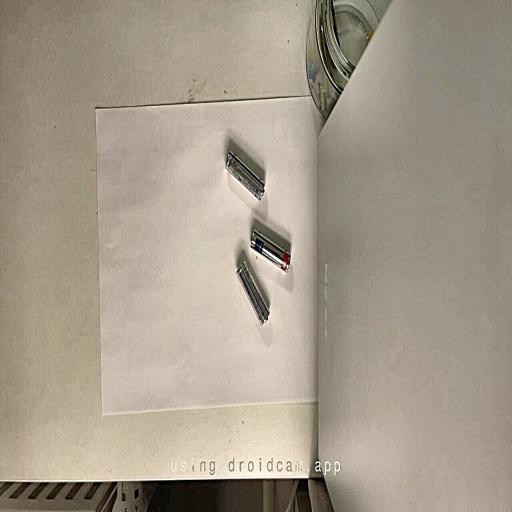RainbowAA: (236, 261, 269, 324), (225, 151, 264, 200), (251, 230, 290, 271)
